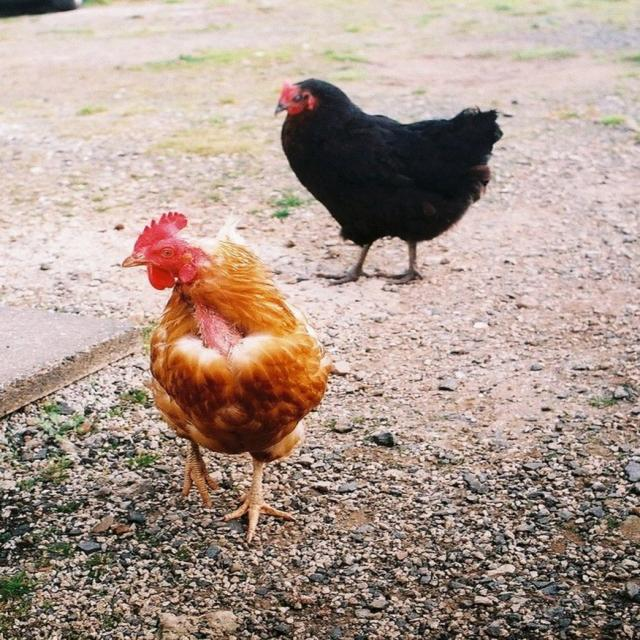Chicken: (122, 211, 333, 544), (274, 78, 503, 287)
